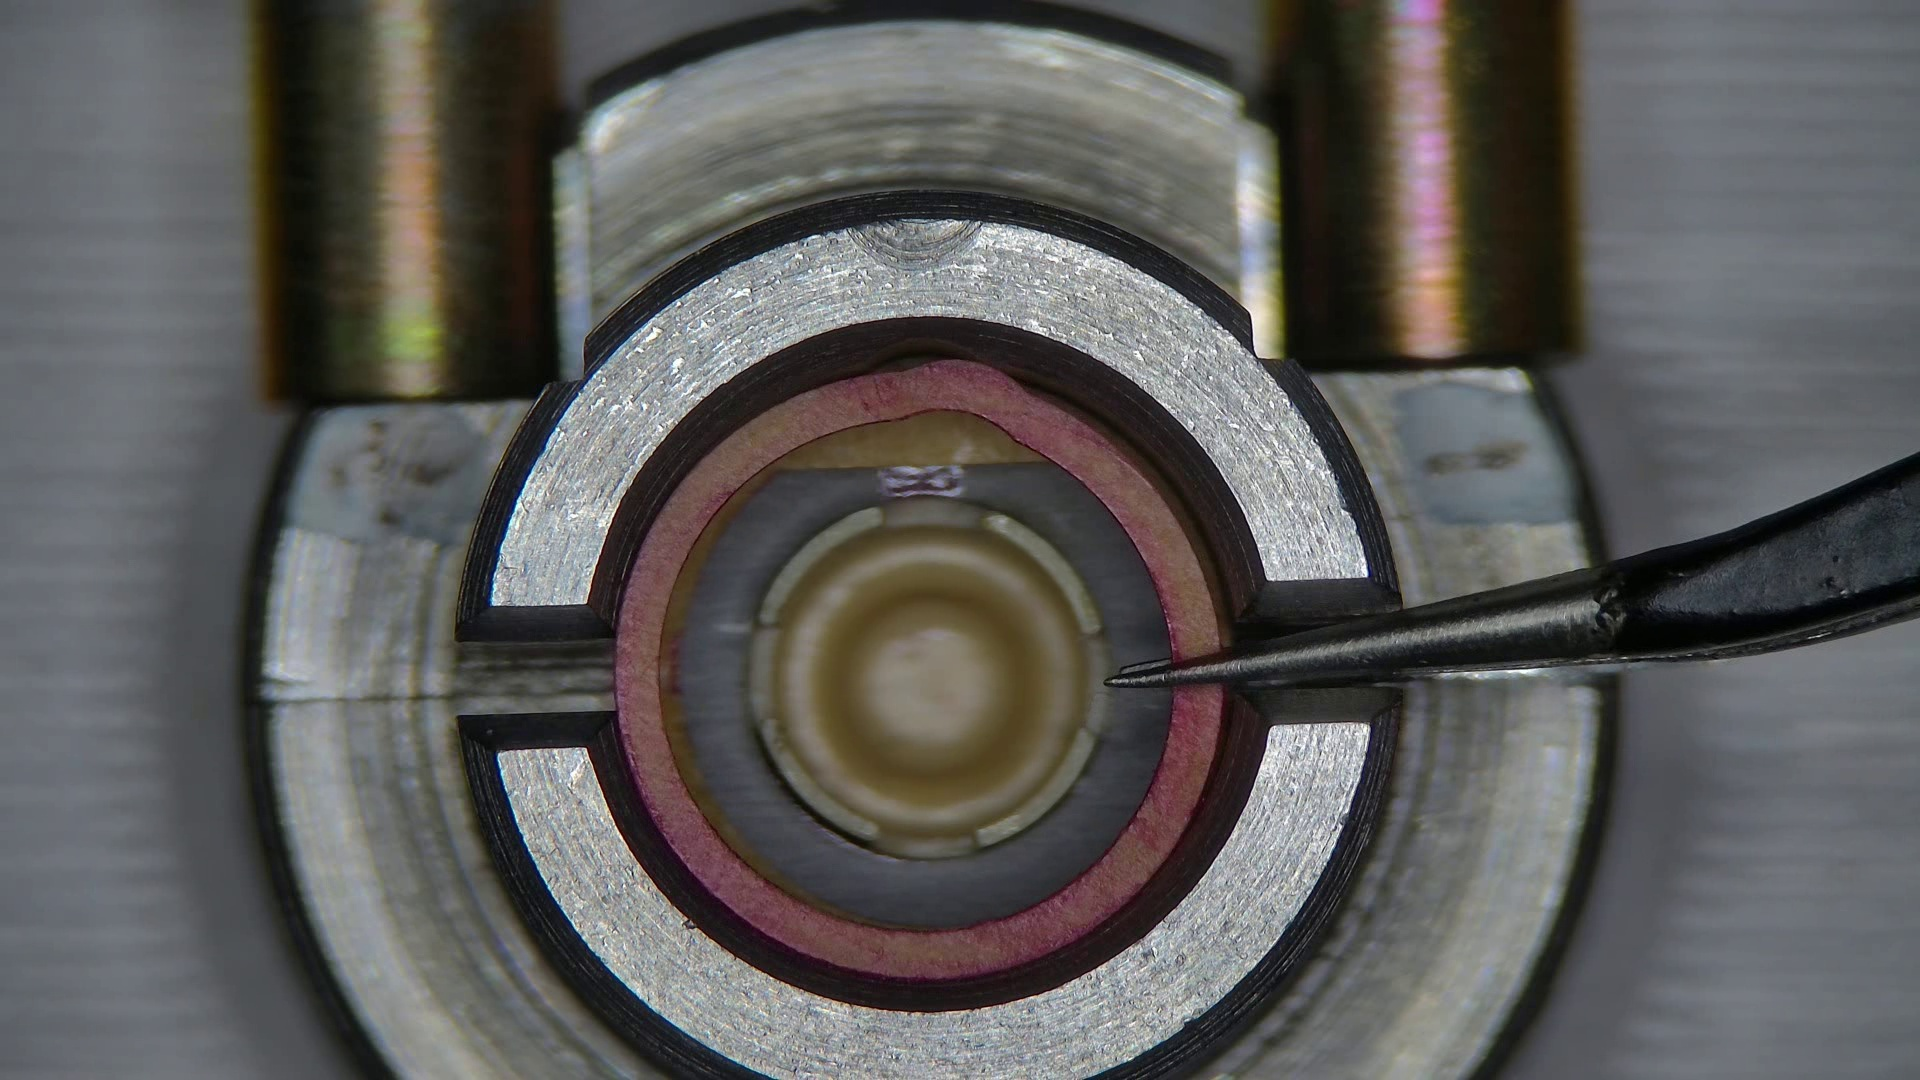GreyOring: (616, 361, 1225, 978)
YellowOring: (678, 462, 1168, 930)
redOring: (651, 407, 1048, 862), (771, 880, 775, 884), (758, 868, 762, 872)
